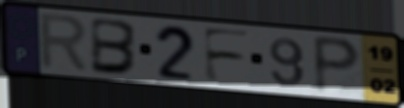2: (153, 21, 201, 86)
9: (267, 36, 306, 88)
B: (89, 15, 141, 77)
F: (200, 25, 254, 85)
P: (311, 33, 364, 96)
R: (37, 11, 92, 76)
